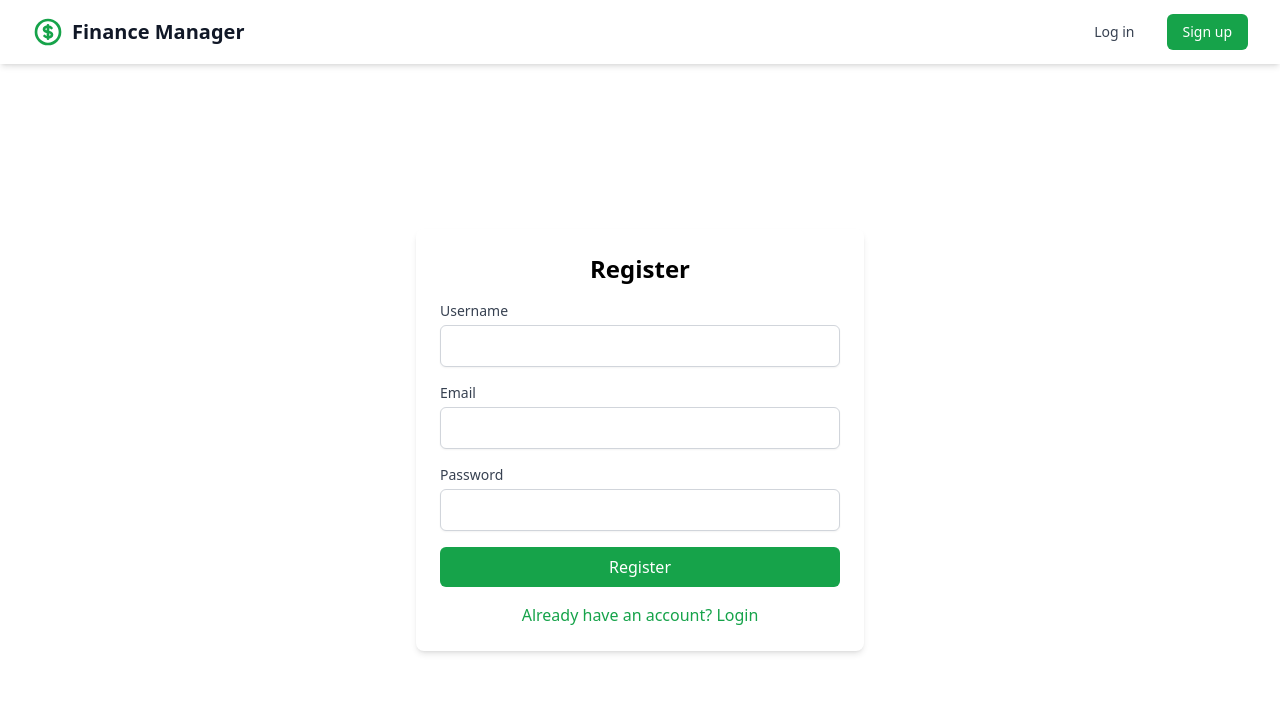
Test: Register Page E2E › shows error message for existing email
# Use an email that already exists in your system
Type "existinguser" into the field named "username" at (640, 346), box x1=440 y1=325 x2=840 y2=367
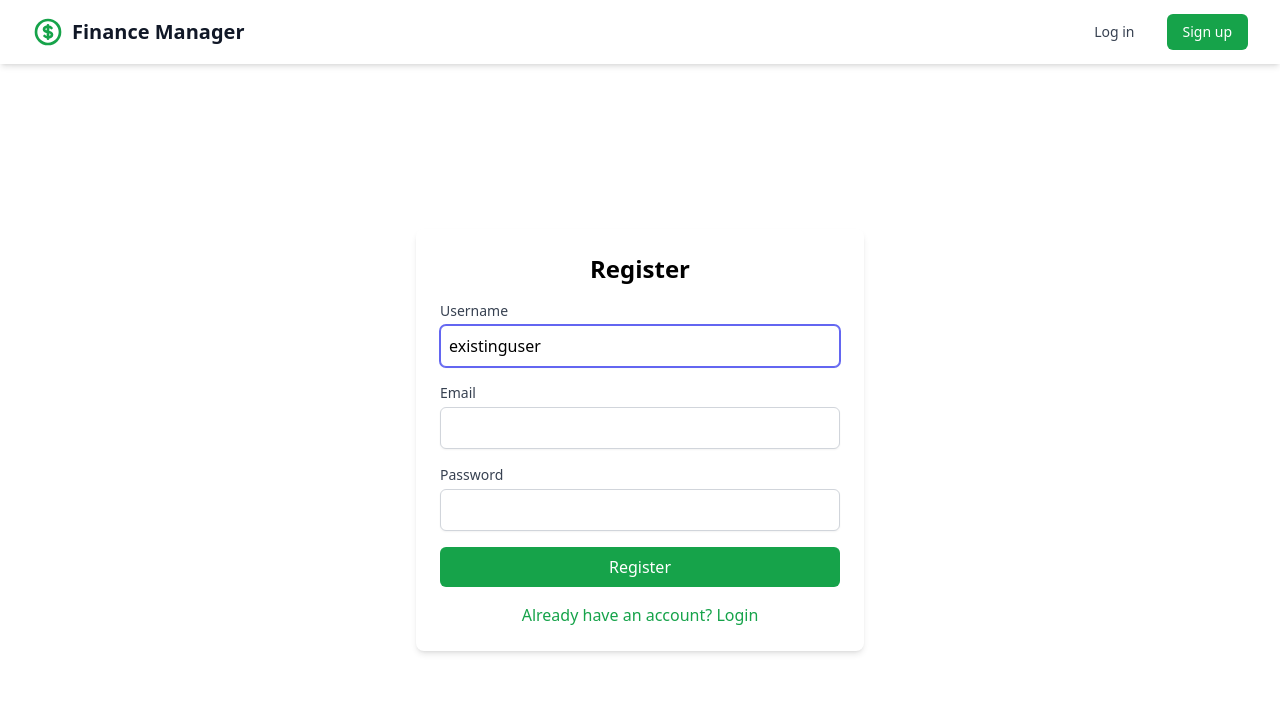
Type "existing@example.com" into the field named "email" at (640, 428), box x1=440 y1=407 x2=840 y2=449
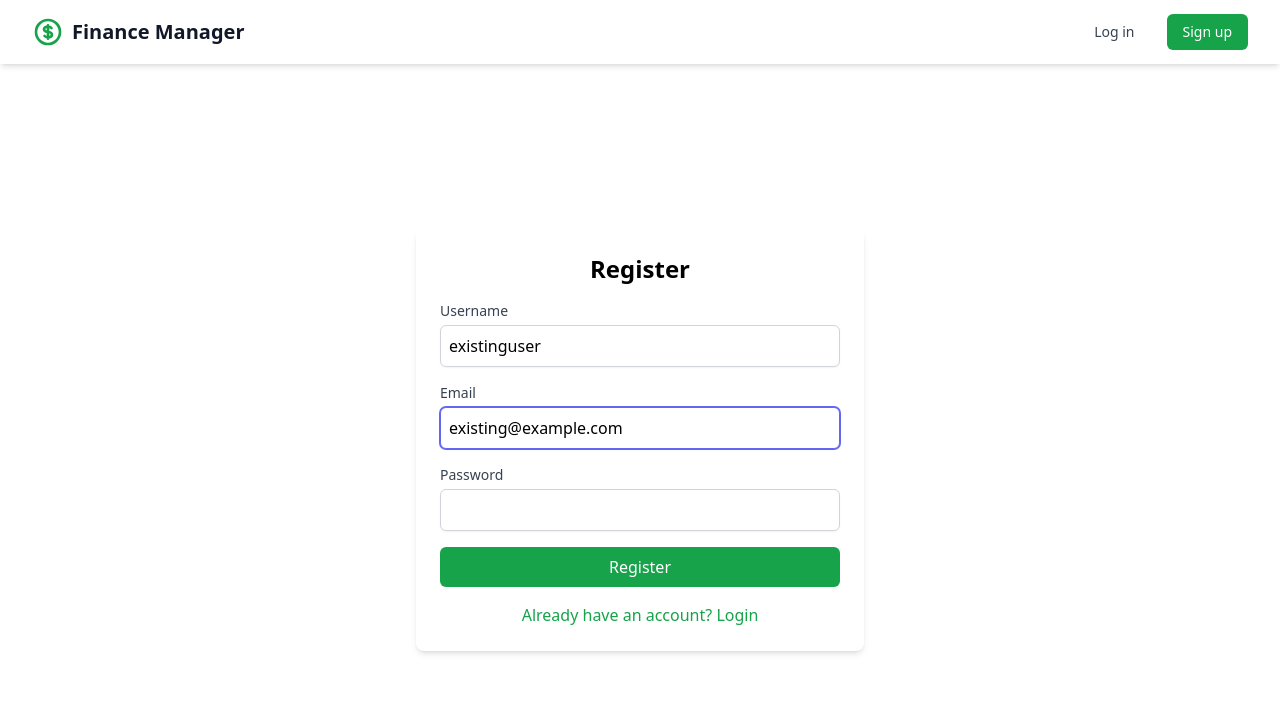
Type "password123" into the password field named "password" at (640, 510), box x1=440 y1=489 x2=840 y2=531
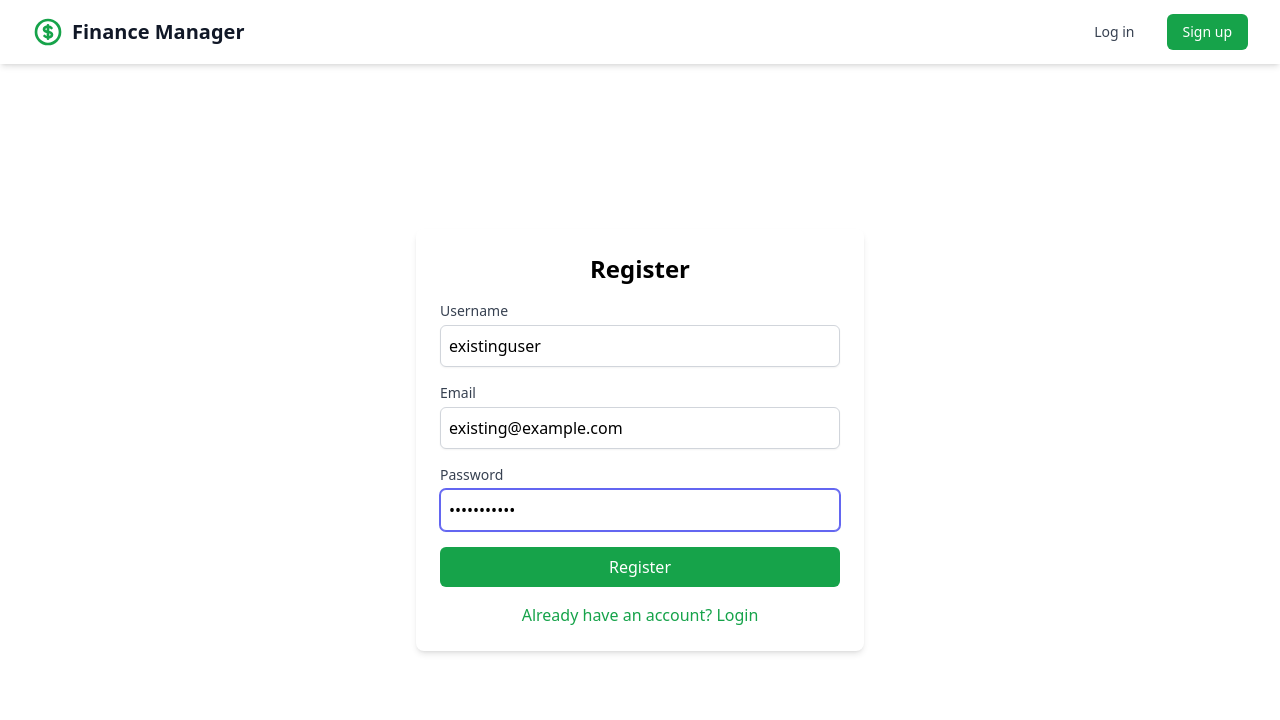
Click the submit button at (640, 567), box x1=440 y1=547 x2=840 y2=587
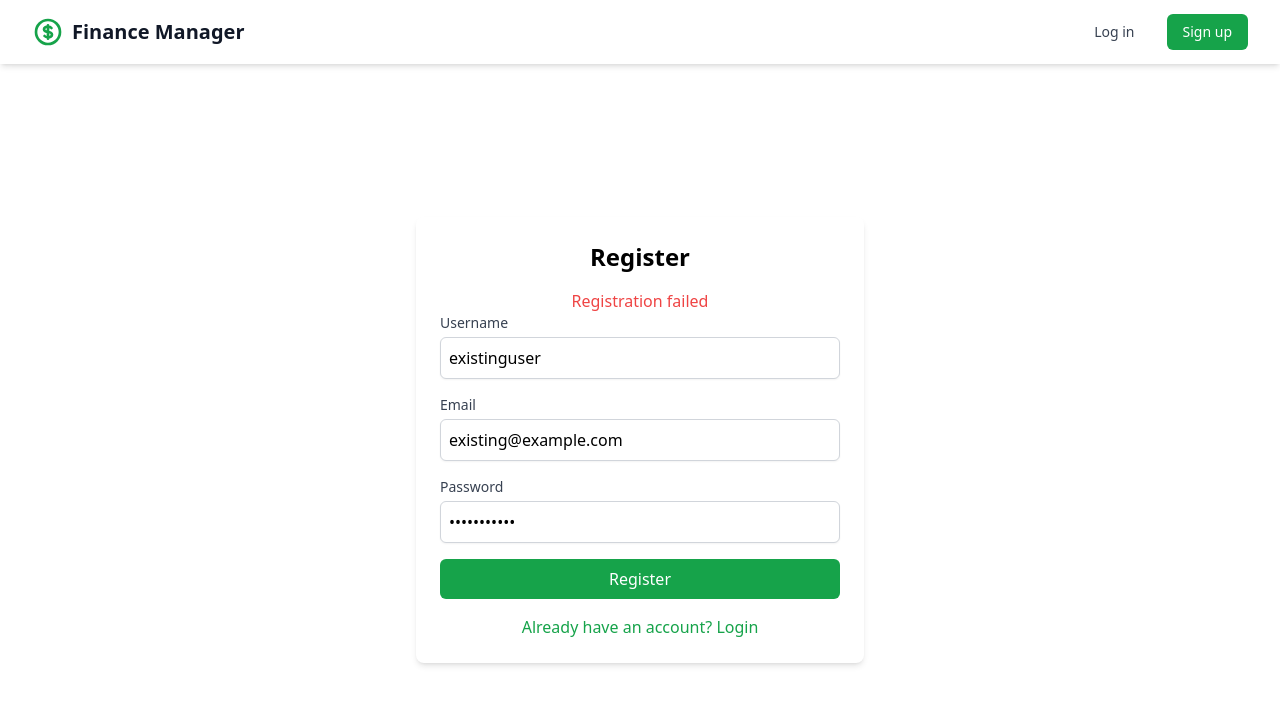
Check: the text "Registration failed" is shown, box x1=572 y1=290 x2=708 y2=312
